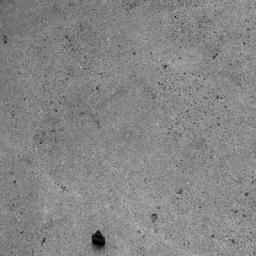FOD: (89, 229, 111, 251)
